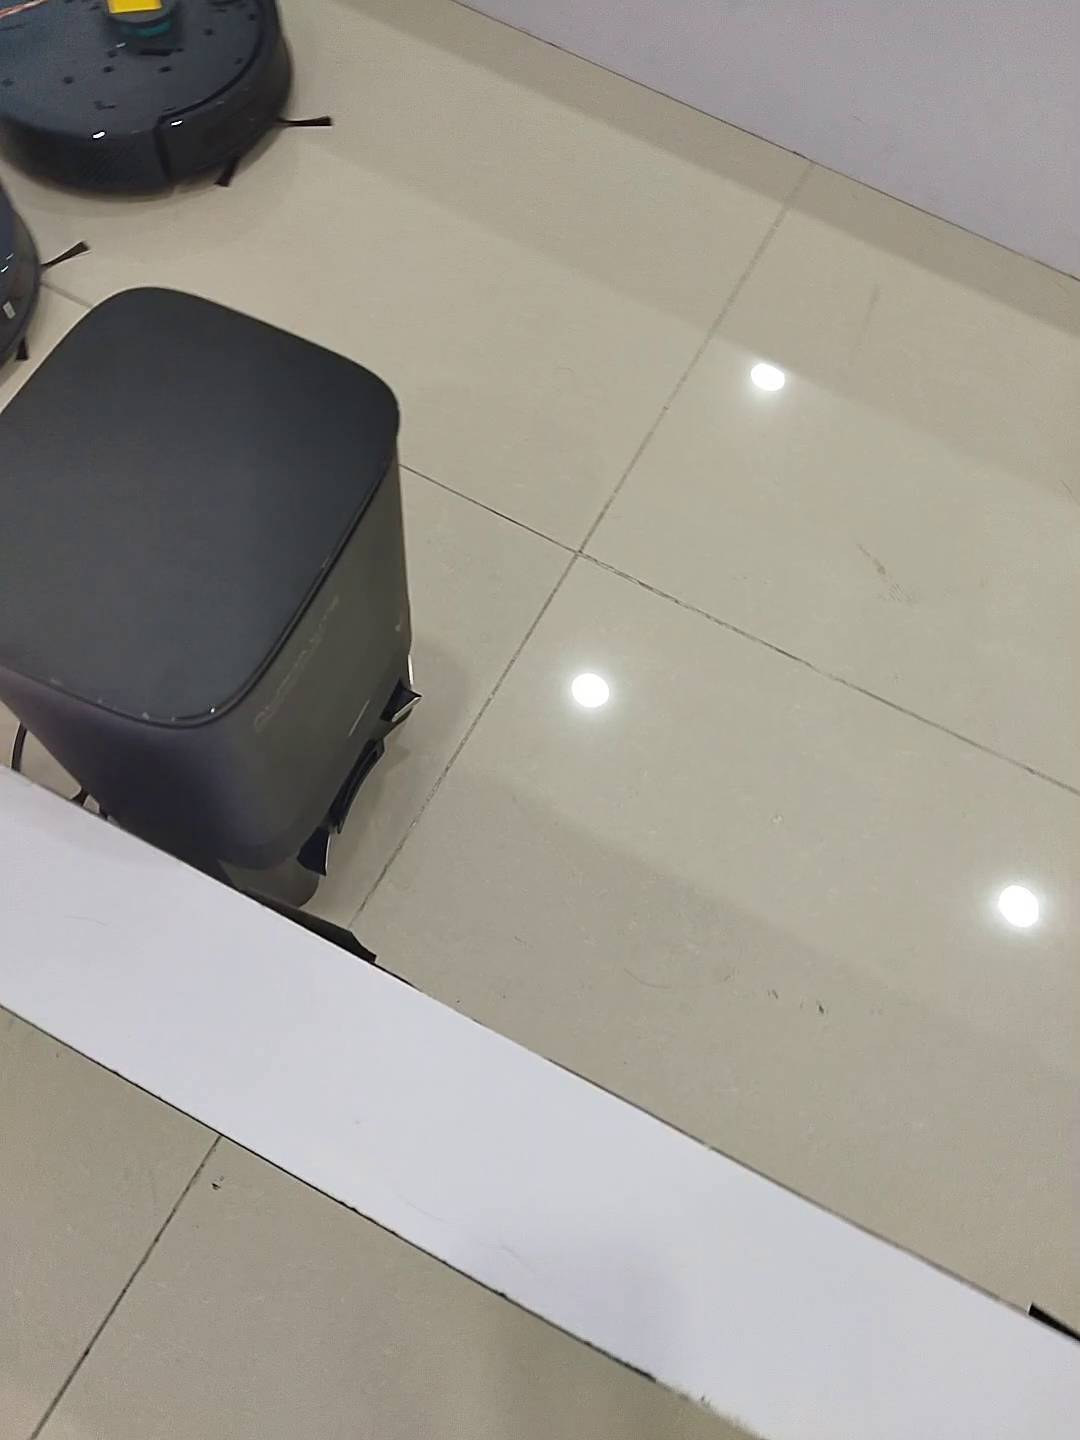dust collecting barrel: (1, 283, 423, 905)
